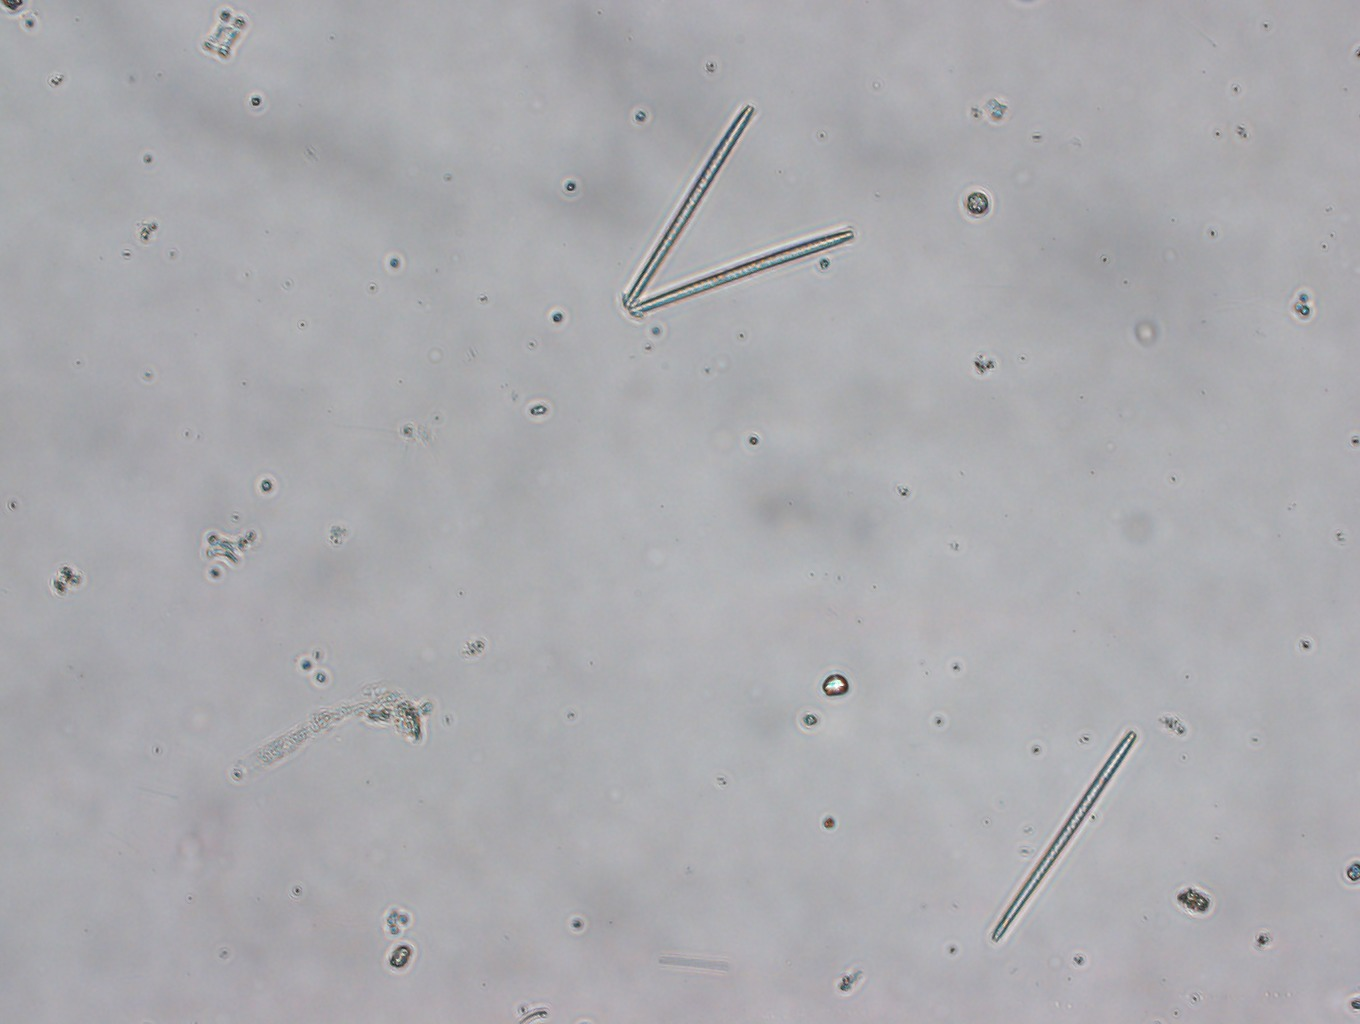thalassionema frauenfeldii: (621, 98, 875, 337)
